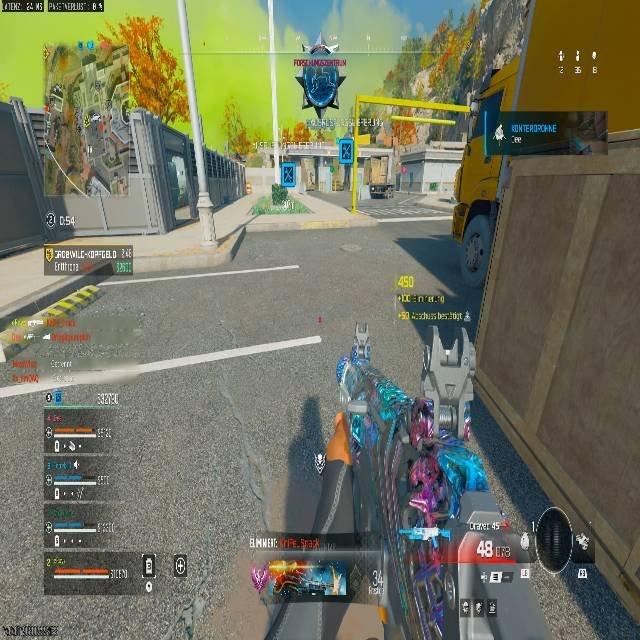player: (383, 182, 394, 198)
